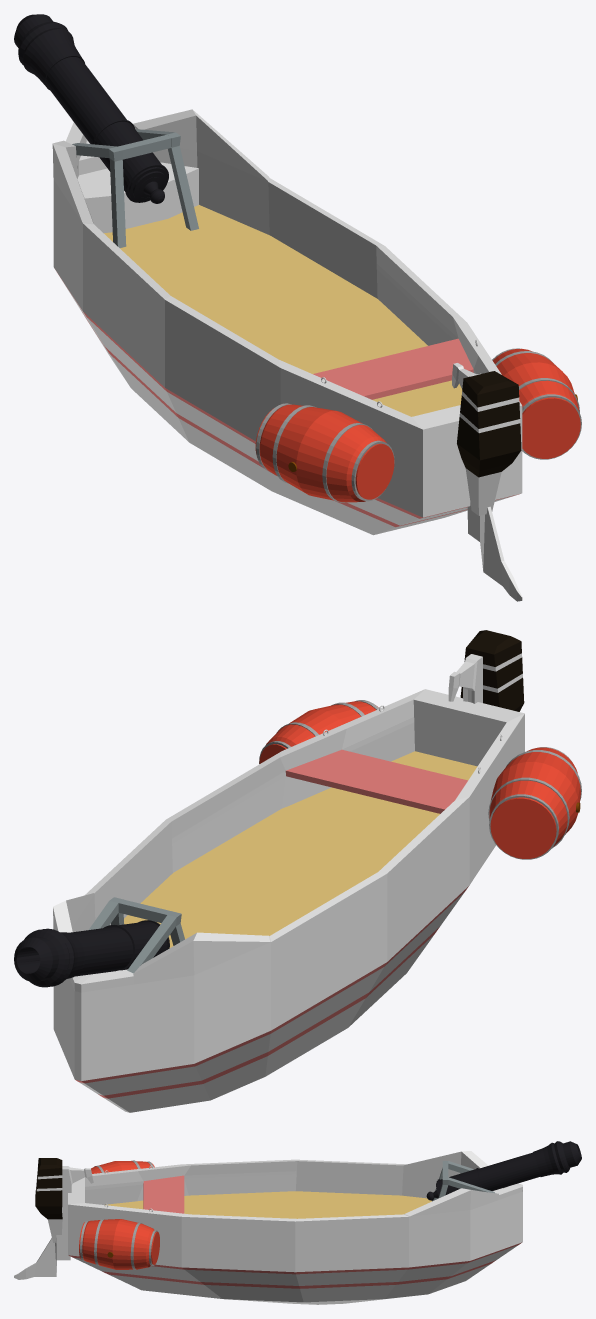
The model's file is Barco3.fbx.
The picture shows the model from 3 angles, top to bottom: view 1: azimuth 30°, elevation 25°; view 2: azimuth 150°, elevation 25°; view 3: azimuth 270°, elevation 25°; orthographic projection. The views are drawn at different scales.
Visible parts, largest first — view 1: Motor; view 2: Motor; view 3: Motor.
Part boxes in pixels (bbox=[...]): Motor: bbox=[14, 14, 581, 601]; Motor: bbox=[14, 630, 581, 1112]; Motor: bbox=[14, 1141, 581, 1304].
Bounding box in the file's own units: 189 × 165 × 546.
